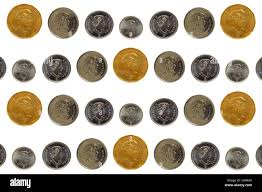coin: (7, 91, 41, 125), (220, 92, 255, 125), (220, 4, 255, 37), (7, 4, 41, 37), (113, 135, 147, 168), (113, 48, 147, 81), (184, 7, 214, 38), (48, 7, 78, 38), (154, 139, 184, 169), (48, 95, 78, 125), (184, 95, 214, 125), (154, 51, 184, 81), (77, 138, 106, 168), (77, 51, 106, 81), (42, 54, 70, 81), (191, 142, 219, 168), (85, 11, 113, 37), (42, 142, 70, 168), (191, 55, 219, 81), (85, 98, 113, 124), (150, 98, 177, 124), (150, 11, 177, 37), (12, 59, 35, 81), (119, 103, 142, 125), (225, 60, 248, 81), (119, 16, 142, 37), (12, 147, 35, 168), (225, 147, 248, 168)
